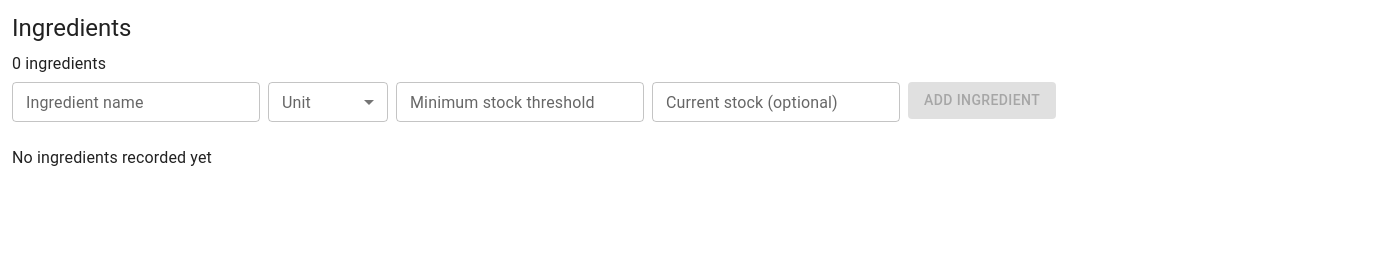
it: IngredientsPage › creates an ingredient and shows it in the list once the mutation resolves
Expected: the text "No ingredients recorded yet" is shown, [12, 148, 212, 167]
Type "Sugar" into the field labelled "Ingredient name". click: (136, 102)
box: [12, 82, 260, 122]
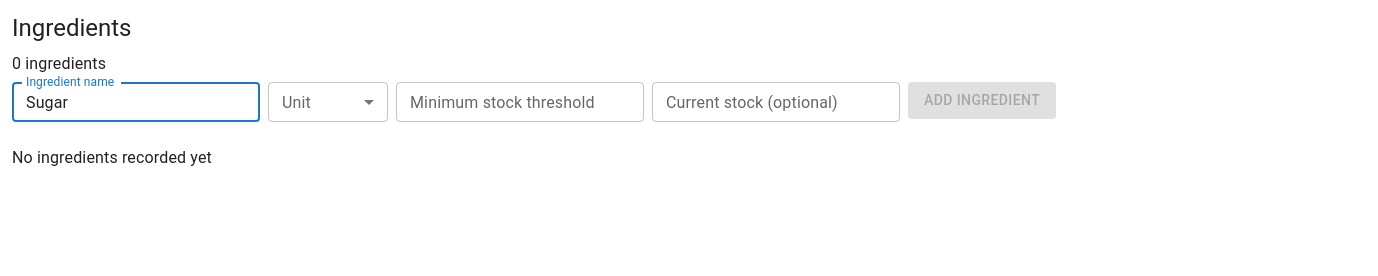
Click the dropdown named "Unit". click: (328, 102)
box: [268, 82, 388, 122]
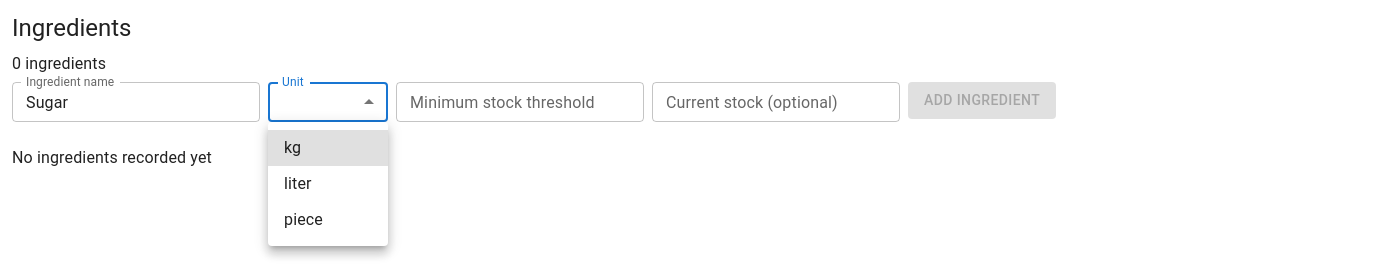
Click the option "kg". click: (328, 148)
box: [268, 130, 388, 166]
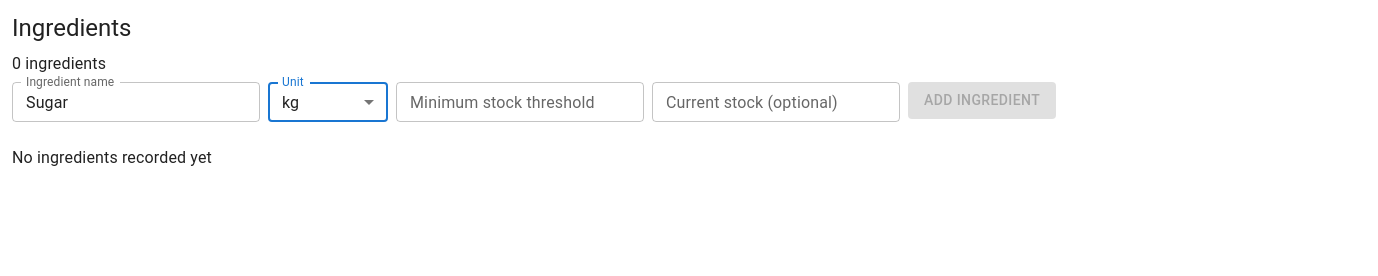
Type "2" into the field labelled "Minimum stock threshold". click: (520, 102)
box: [396, 82, 644, 122]
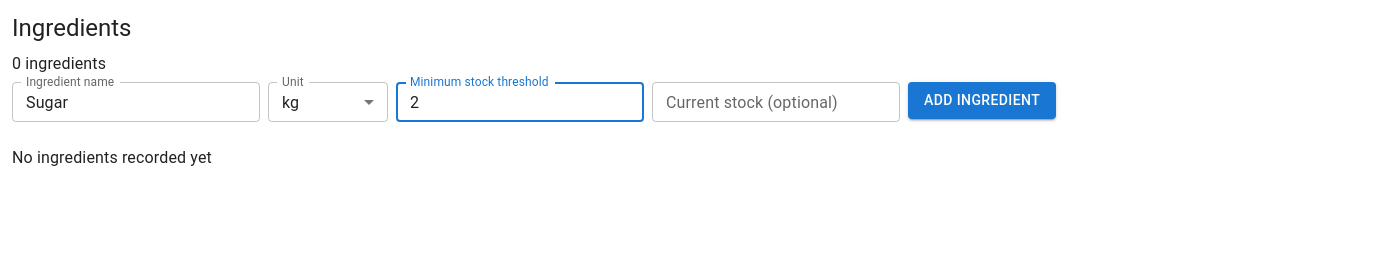
Click the button "Add ingredient". click: (982, 100)
box: [908, 82, 1056, 118]
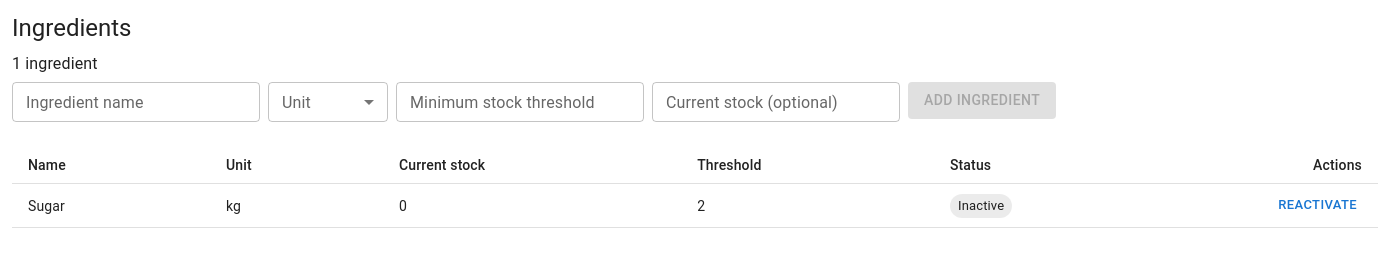
Now the text "Sugar" is shown, box [12, 184, 210, 228]
Now the field labelled "Ingredient name" is empty, box [12, 82, 260, 122]
Now the field labelled "Minimum stock threshold" is empty, box [396, 82, 644, 122]
